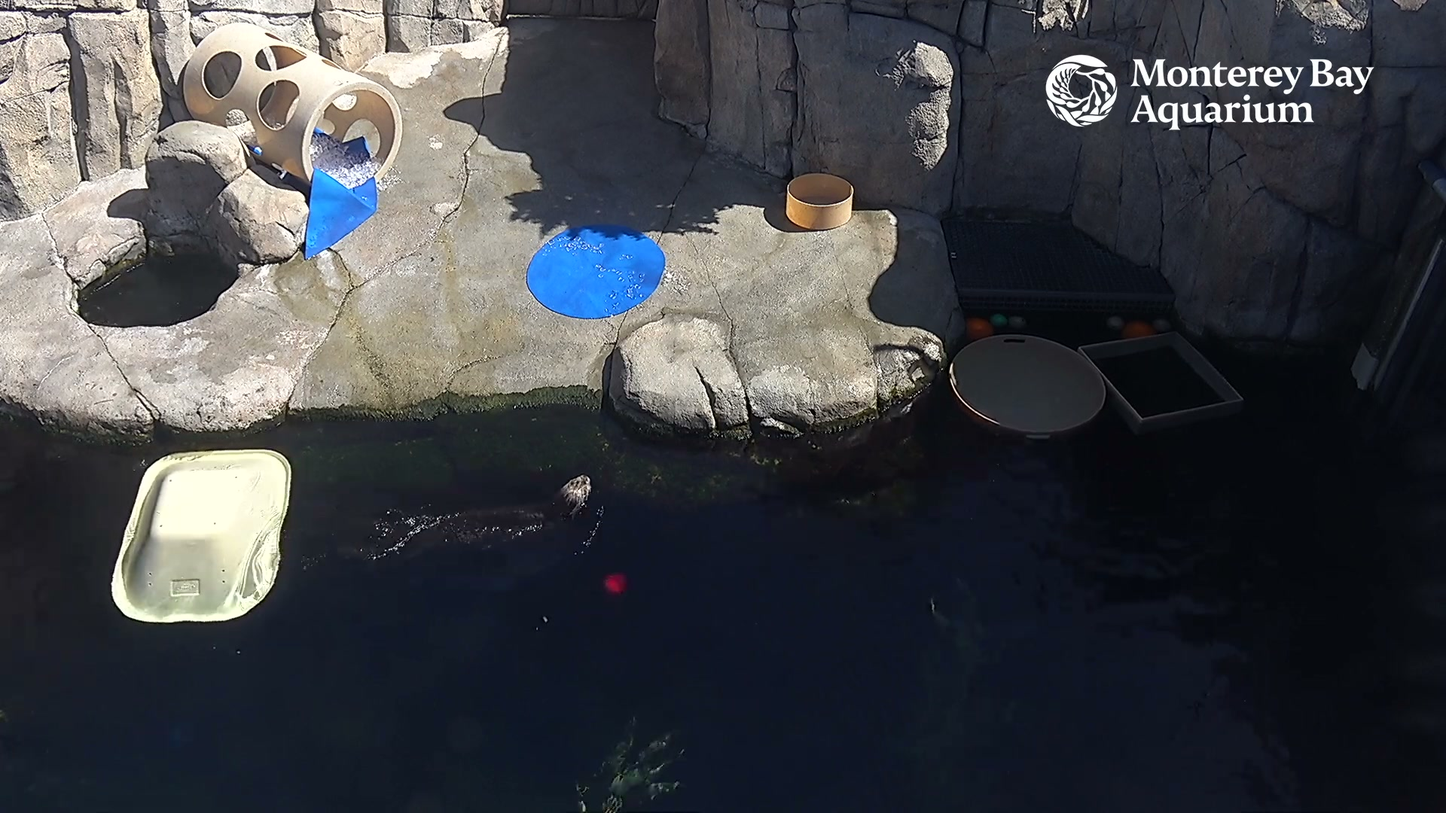Southern Sea Otter: (350, 463, 614, 566)
